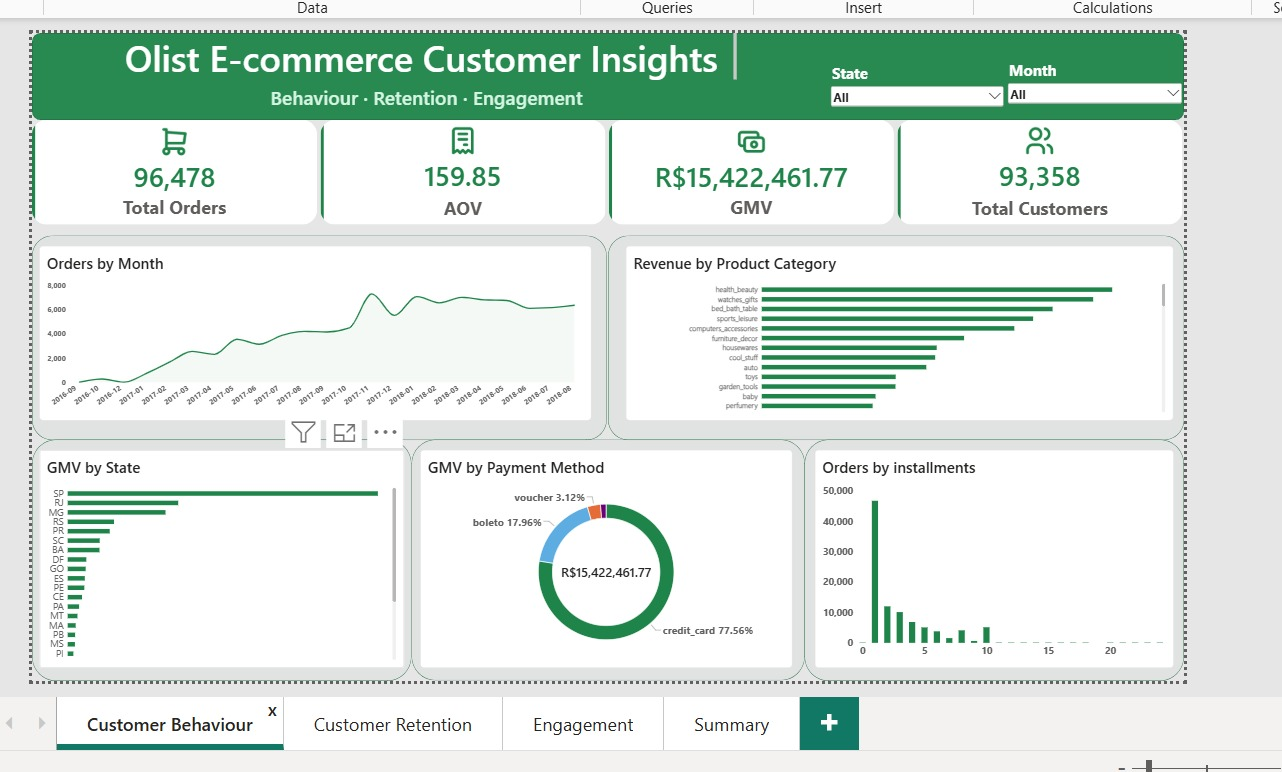

This screenshot's page, from the dashboard's own definition file:
{"tool":"powerbi","page":{"name":"Customer Behaviour","canvas":[2560,1440],"ordinal":0},"visuals":[{"type":"shape","box":[0,0,2560,193.3],"z":0},{"type":"slicer","fields":{"Values":["olist orders_clean.purchase_month"]},"box":[2163.3,60,396.7,133.3],"z":1000},{"type":"slicer","fields":{"Values":["olist orders_clean.customer_state"]},"box":[1770,66.7,393.3,116.7],"z":2000},{"type":"textbox","box":[206.7,0,1360,113.3],"z":3000},{"type":"textbox","box":[530,113.3,713.3,83.3],"z":4000},{"type":"cardVisual","fields":{"Data":["Measures Table.Total Orders","Measures Table.AOV","Measures Table.GMV","Measures Table.Total Customers"]},"box":[0,193.5,2558.1,232.3],"z":5000},{"type":"shape","box":[0,448.4,1277.4,454.8],"z":6000},{"type":"shape","box":[1280.6,448.4,1280.6,454.8],"z":7000},{"type":"shape","box":[841.9,903.2,874.2,535.5],"z":8000},{"type":"shape","box":[1716.7,903.3,843.3,536.7],"z":9000},{"type":"shape","box":[0,903.3,843.3,536.7],"z":10000},{"type":"lineChart","title":"Orders by Month","fields":{"Category":["olist orders_clean.purchase_month"],"Y":["Measures Table.Total Orders"]},"box":[16.1,474.2,1225.8,387.1],"z":11000},{"type":"clusteredBarChart","title":" Revenue by Product Category","fields":{"Category":["olist product_category.product_category_name_english"],"Y":["Measures Table.Product Revenue"]},"box":[1319.4,474.2,1216.1,387.1],"z":12000},{"type":"donutChart","title":"GMV by Payment Method","fields":{"Category":["olist orders_clean.payment_type"],"Y":["Measures Table.GMV"]},"box":[864.5,925.8,825.8,483.9],"z":13000},{"type":"clusteredBarChart","title":"GMV by State","fields":{"Category":["olist orders_clean.customer_state"],"Y":["Measures Table.GMV"]},"box":[16.1,925.8,809.7,483.9],"z":14000},{"type":"columnChart","title":"Orders by installments","fields":{"Category":["olist orders_clean.installments"],"Y":["Measures Table.Total Orders"]},"box":[1738.7,925.8,796.8,483.9],"z":15000}]}

Visuals, with their boxes on the page's 2560x1440 design canvas (x1, y1, x2, y2). These are canvas units, not pixel positions in the 1282x772 screenshot, which may show the page scaled, cropped or inside an application window:
shape: [0,0,2560,193]
slicer - olist orders_clean.purchase_month: [2163,60,2560,193]
slicer - olist orders_clean.customer_state: [1770,67,2163,183]
textbox: [207,0,1567,113]
textbox: [530,113,1243,197]
cardVisual - Measures Table.Total Orders x Measures Table.AOV: [0,194,2558,426]
shape: [0,448,1277,903]
shape: [1281,448,2561,903]
shape: [842,903,1716,1439]
shape: [1717,903,2560,1440]
shape: [0,903,843,1440]
"Orders by Month" lineChart: [16,474,1242,861]
" Revenue by Product Category" clusteredBarChart: [1319,474,2536,861]
"GMV by Payment Method" donutChart: [864,926,1690,1410]
"GMV by State" clusteredBarChart: [16,926,826,1410]
"Orders by installments" columnChart: [1739,926,2536,1410]
